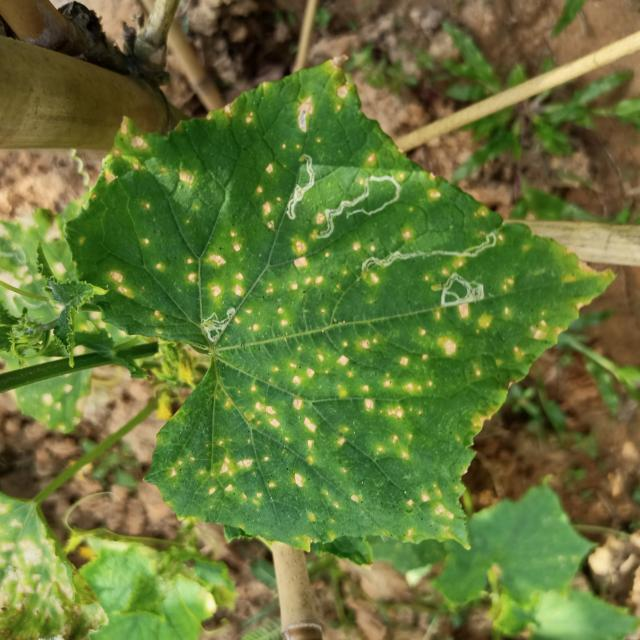disease_cucumber: (166, 306, 558, 523), (139, 206, 247, 301), (103, 120, 197, 195), (280, 83, 354, 148), (252, 235, 325, 299), (349, 227, 421, 256), (253, 160, 278, 231), (204, 102, 258, 128), (104, 263, 132, 299), (424, 258, 464, 281)
